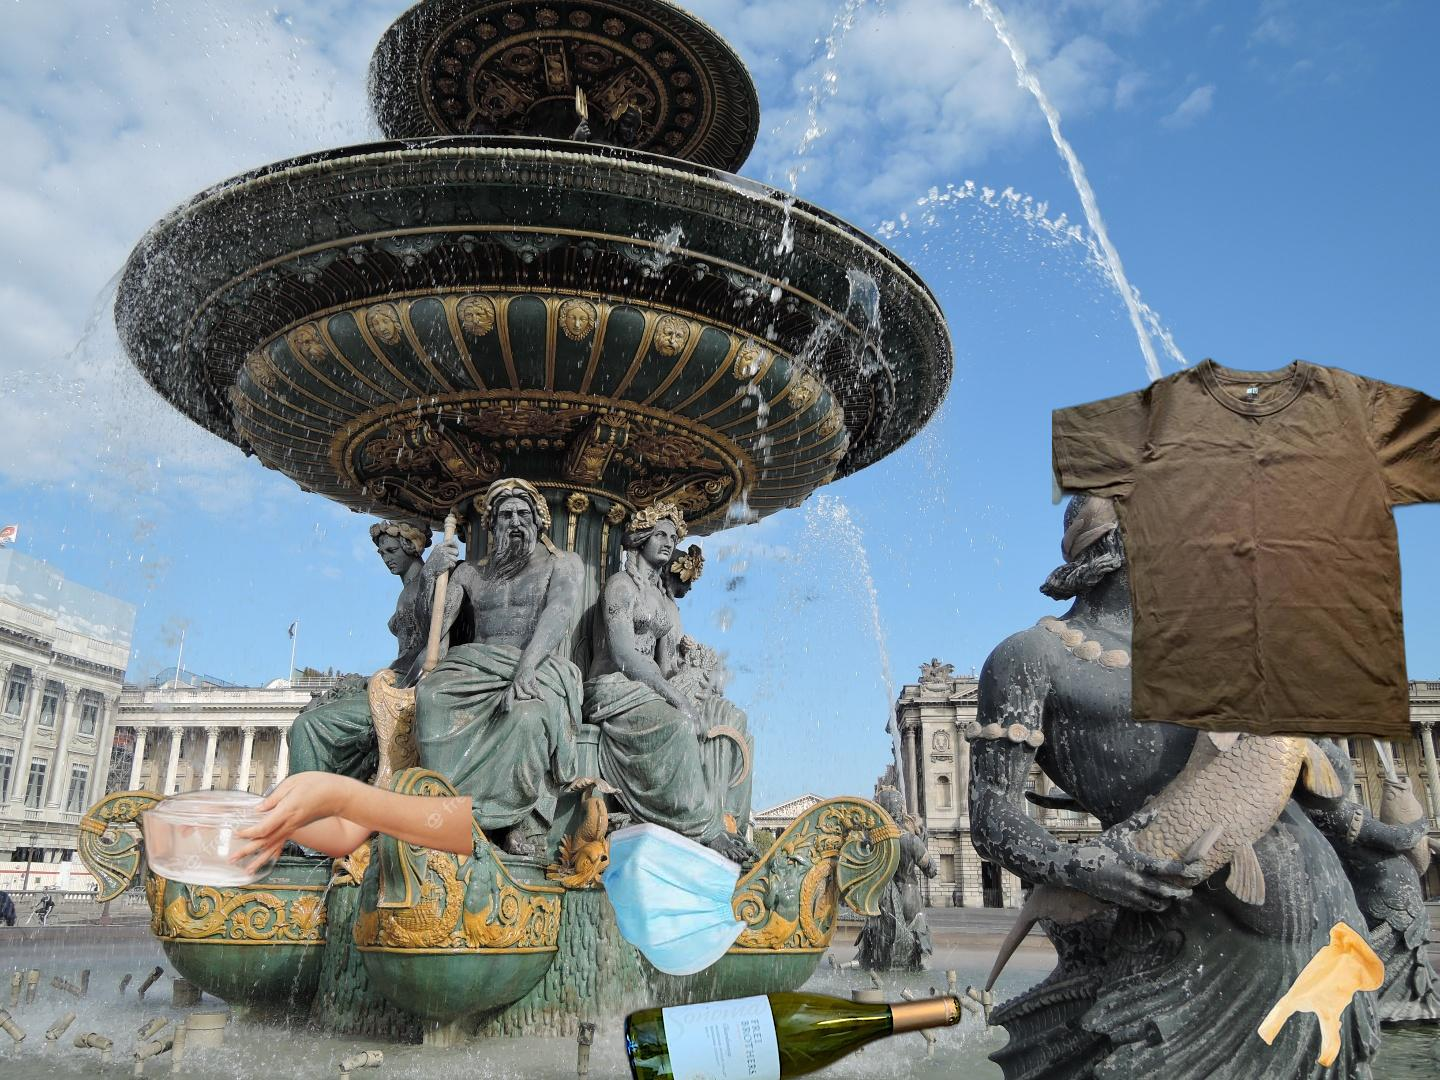biological: (702, 575, 882, 676)
clothes: (1052, 353, 1440, 750)
glass: (1271, 385, 1440, 1068), (619, 986, 1042, 1080)
plastic-bag: (1254, 918, 1388, 1071)
trash: (598, 819, 799, 979)
trashbox-cardboard: (133, 660, 472, 892)
